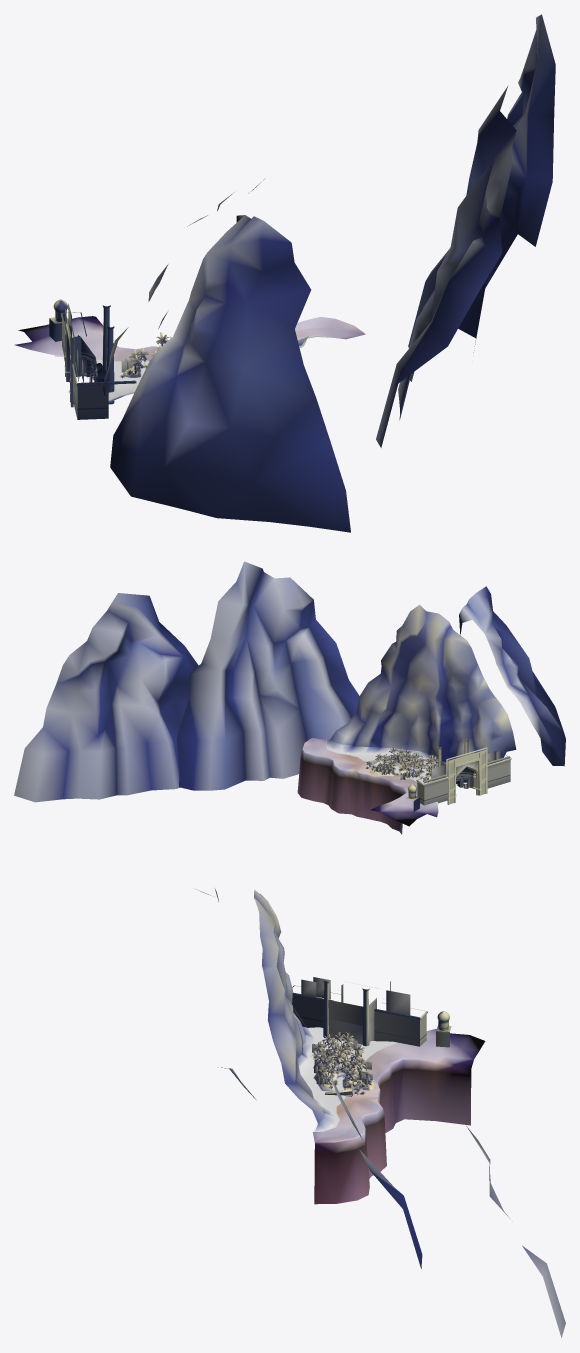
The model's file is 04Forest.gltf.
The picture shows the model from 3 angles, top to bottom: view 1: azimuth 30°, elevation 25°; view 2: azimuth 150°, elevation 25°; view 3: azimuth 270°, elevation 25°; orthographic projection. The views are drawn at different scales.
Parts seen in each view (by area): view 1: stg010_a06_Mesh_0000, stg010_a06_Mesh_0001, stg010_o31_Mesh_0012, stg010_o32_Mesh_0001, stg010_a06_Mesh_0002, stg010_o06_Mesh_0004, stg010_o14_Mesh_0000; view 2: stg010_a06_Mesh_0000, stg010_o06_Mesh_0002, stg010_a06_Mesh_0001, stg010_o31_Mesh_0012, stg010_o06_Mesh_0004, stg010_o06_Mesh_0001, stg010_p14_Mesh_0006, stg010_o32_Mesh_0001, stg010_o14_Mesh_0007, stg010_a06_Mesh_0002, stg010_p14_Mesh_0001, stg010_a06_Mesh_0004; view 3: stg010_o06_Mesh_0002, stg010_a06_Mesh_0000, stg010_o31_Mesh_0012, stg010_a06_Mesh_0001, stg010_o06_Mesh_0004, stg010_o06_Mesh_0001, stg010_p14_Mesh_0001, stg010_p14_Mesh_0006, stg010_a06_Mesh_0002, stg010_o31_Mesh_0013, stg010_o14_Mesh_0000, stg010_o32_Mesh_0001.
Part boxes in pixels (x1,y1,x2,y2): stg010_a06_Mesh_0000: (102, 14, 555, 532); stg010_a06_Mesh_0001: (18, 316, 365, 353); stg010_o31_Mesh_0012: (62, 320, 108, 419); stg010_o32_Mesh_0001: (50, 304, 136, 407); stg010_a06_Mesh_0002: (15, 327, 347, 361); stg010_o06_Mesh_0004: (54, 335, 333, 402); stg010_o14_Mesh_0000: (77, 316, 114, 404); stg010_a06_Mesh_0000: (14, 561, 565, 802); stg010_o06_Mesh_0002: (297, 757, 402, 834); stg010_a06_Mesh_0001: (302, 738, 426, 826); stg010_o31_Mesh_0012: (417, 760, 510, 805); stg010_o06_Mesh_0004: (325, 739, 467, 804); stg010_o06_Mesh_0001: (300, 743, 406, 810); stg010_p14_Mesh_0006: (375, 747, 437, 778); stg010_o32_Mesh_0001: (368, 739, 511, 804); stg010_o14_Mesh_0007: (371, 749, 511, 804); stg010_a06_Mesh_0002: (312, 740, 438, 817); stg010_p14_Mesh_0001: (374, 751, 501, 782); stg010_a06_Mesh_0004: (325, 739, 446, 763); stg010_o06_Mesh_0002: (314, 1069, 471, 1204); stg010_a06_Mesh_0000: (196, 888, 565, 1337); stg010_o31_Mesh_0012: (292, 995, 426, 1046); stg010_a06_Mesh_0001: (313, 1033, 485, 1141); stg010_o06_Mesh_0004: (298, 1027, 397, 1131); stg010_o06_Mesh_0001: (314, 1058, 471, 1153); stg010_p14_Mesh_0001: (301, 977, 410, 1085); stg010_p14_Mesh_0006: (313, 1032, 366, 1084); stg010_a06_Mesh_0002: (313, 1028, 436, 1137); stg010_o31_Mesh_0013: (328, 1000, 376, 1044); stg010_o14_Mesh_0000: (323, 990, 369, 1060); stg010_o32_Mesh_0001: (292, 980, 451, 1096).
Bounding box in the file's own units: 600 × 270 × 513.
